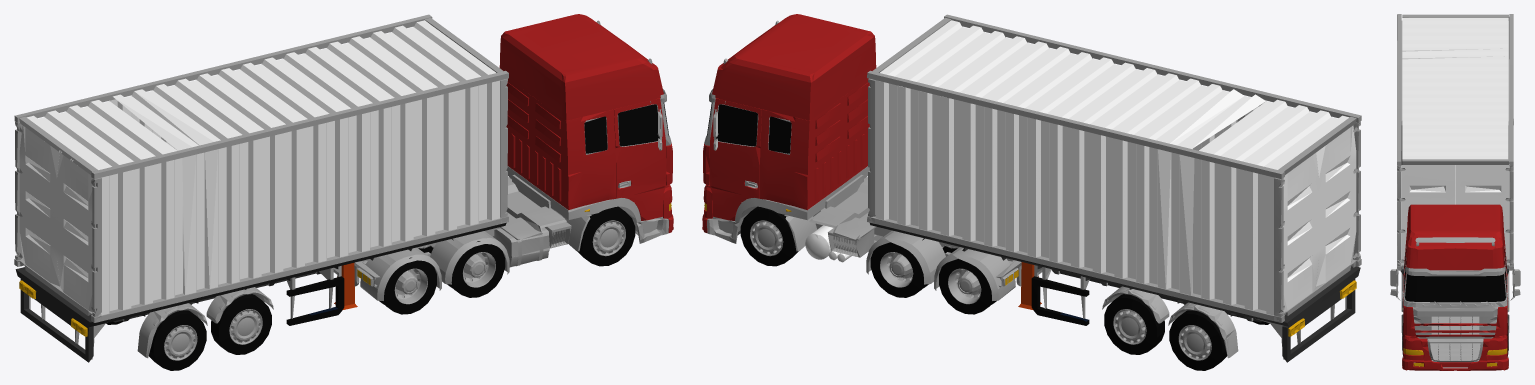
The model's file is sm_baisifu.fbx.
3 views of the same model, side by side, from view 1: azimuth 30°, elevation 25°; view 2: azimuth 150°, elevation 25°; view 3: azimuth 270°, elevation 25° (orthographic). The views are drawn at different scales.
Visible parts, largest first — view 1: sm_baisifu_wulogo; view 2: sm_baisifu_wulogo; view 3: sm_baisifu_wulogo.
Boxes of the visible parts, x1,y1,x2,y2 form: sm_baisifu_wulogo: (14,14,673,370); sm_baisifu_wulogo: (702,14,1361,370); sm_baisifu_wulogo: (1390,14,1520,370).
Size of the model in its own units: 12.05 by 4.32 by 3.15.
Materials: 1 (1 with a texture image).
